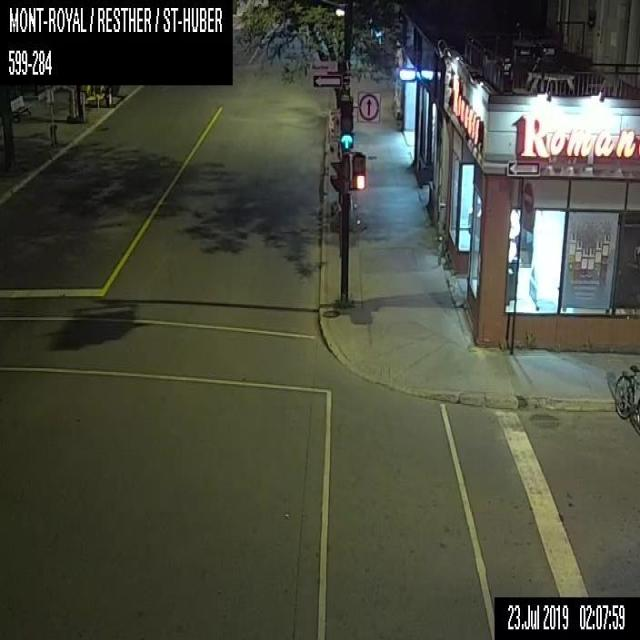construction: (68, 88, 76, 115)
